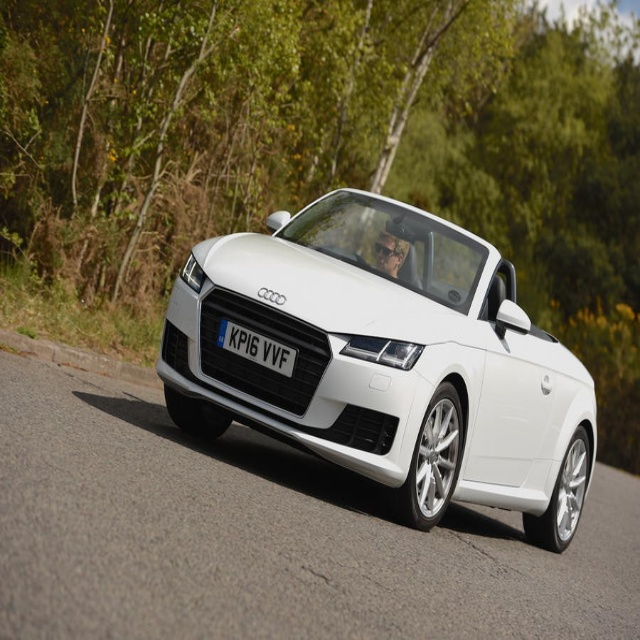Car: (155, 187, 598, 555)
